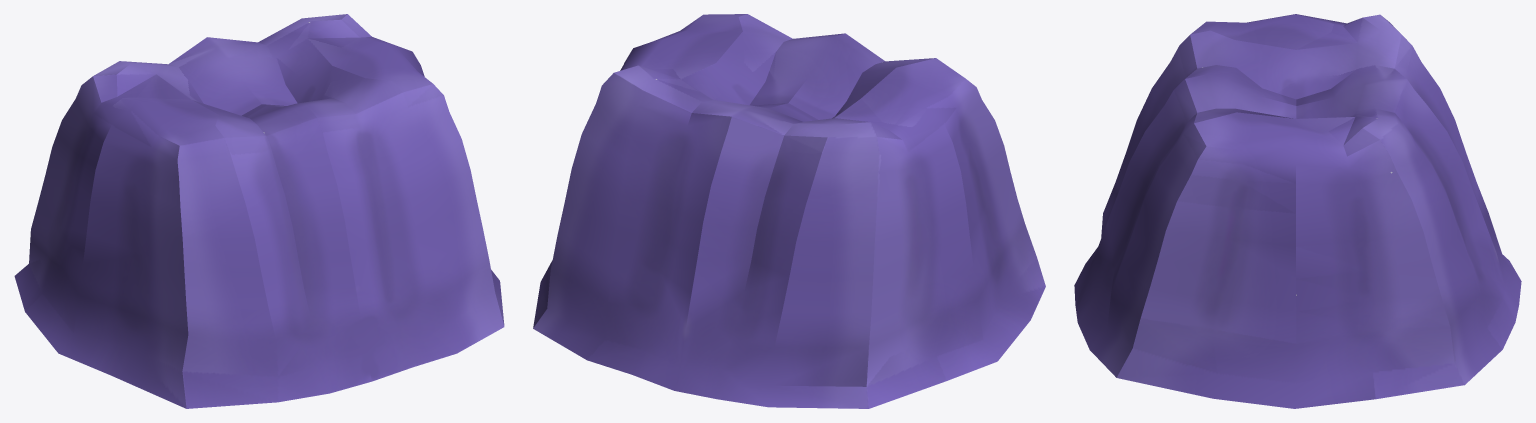
File: Jelly.fbx
3 renders of one model, left to right at view 1: azimuth 30°, elevation 25°; view 2: azimuth 150°, elevation 25°; view 3: azimuth 270°, elevation 25°, orthographic. The views are drawn at different scales.
Visible parts, largest first — view 1: Cube; view 2: Cube; view 3: Cube.
Boxes of the visible parts, x1,y1,x2,y2 form: Cube: (14,14,504,408); Cube: (533,14,1045,408); Cube: (1074,14,1521,408).
Size of the model in its own units: 584 by 330 by 554.
Materials: 1 (1 with a texture image).
